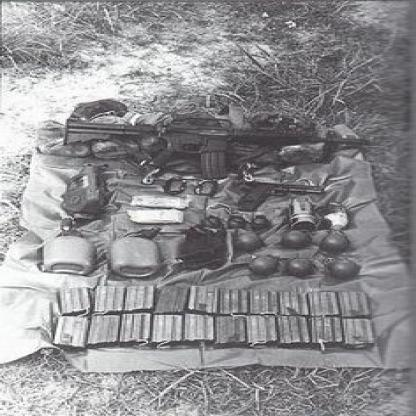Grenade: (323, 256, 360, 279), (319, 229, 351, 254), (285, 256, 317, 278), (250, 253, 280, 276), (279, 230, 311, 250), (232, 230, 262, 251)
Gun: (62, 114, 370, 181)
Pistol: (237, 180, 324, 210)
